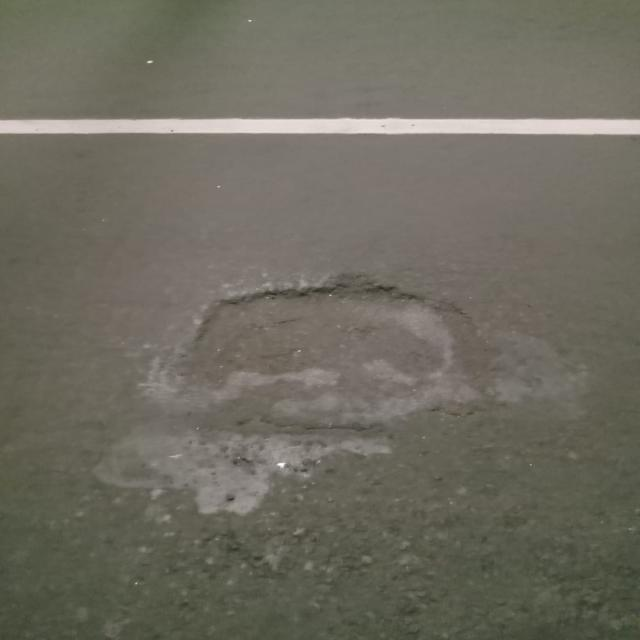Buraco: (163, 270, 513, 441)
